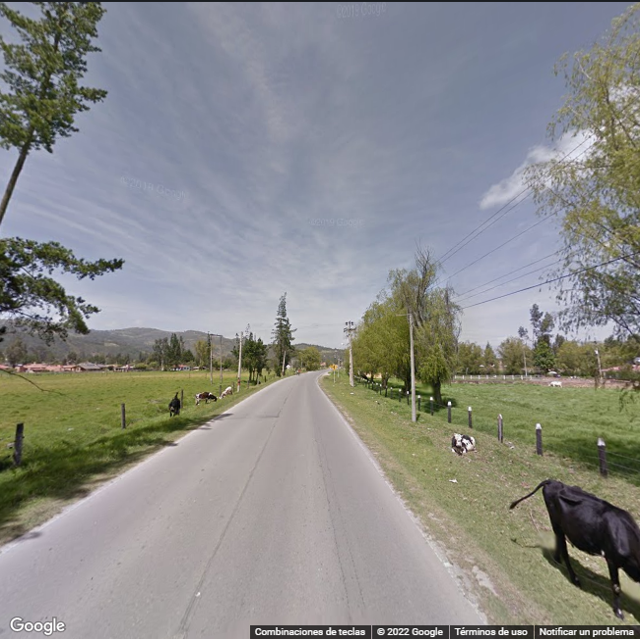D00: (172, 476, 250, 636), (319, 460, 348, 611), (183, 587, 207, 636)
